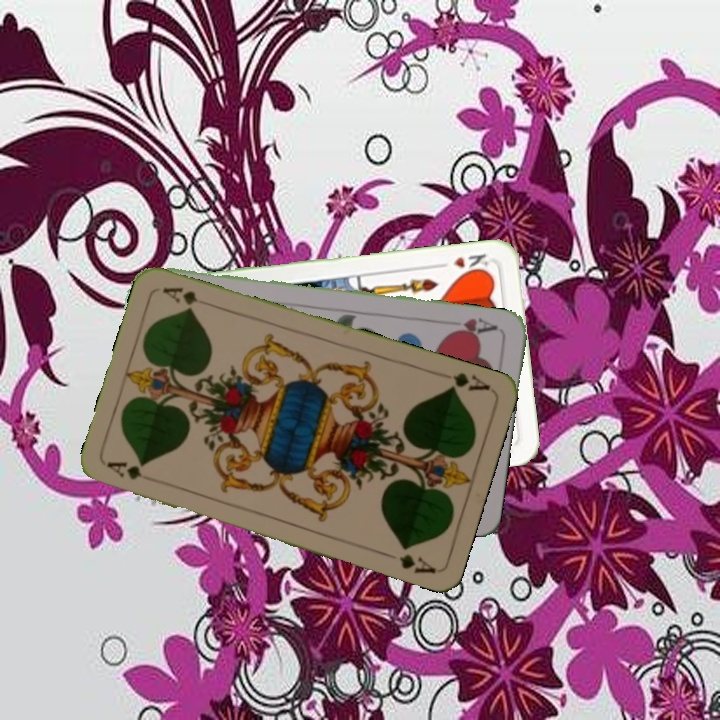GA: (444, 368, 493, 394), (103, 457, 145, 483)
HA: (444, 314, 500, 340)
HK: (434, 250, 491, 277)
